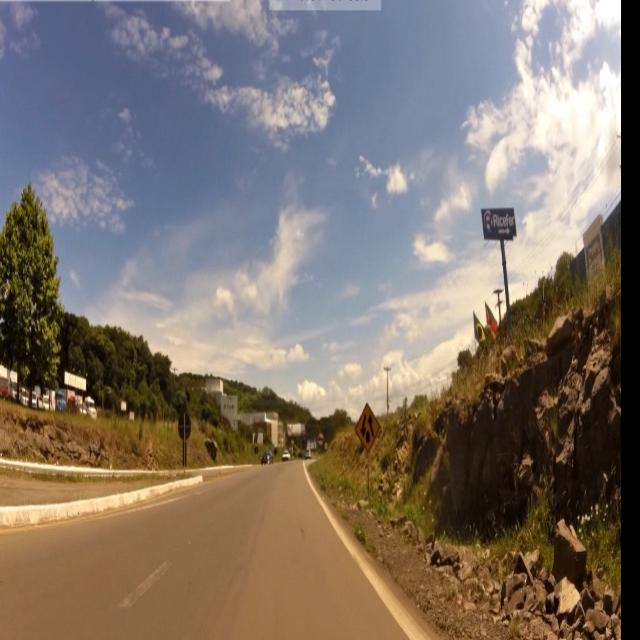A-42b: (357, 404, 381, 459)
